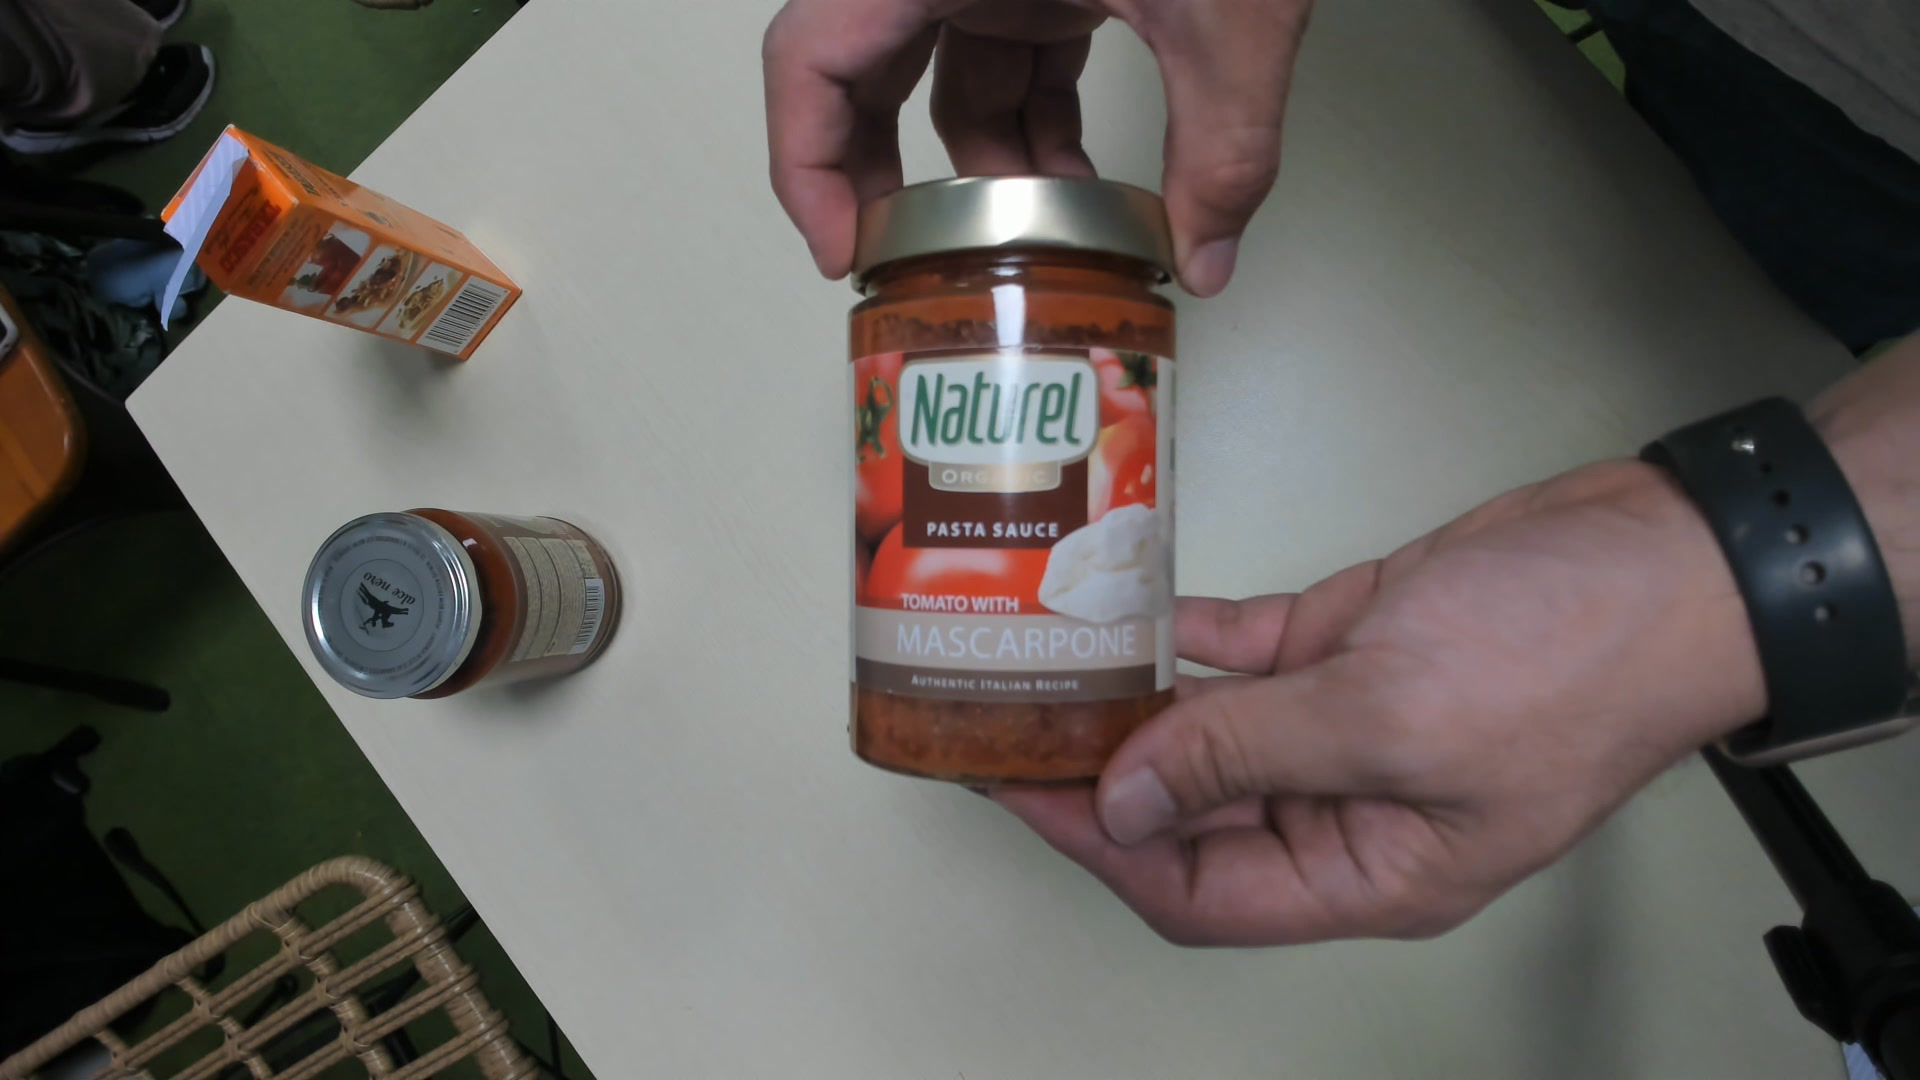PastaSauce_300-399g_NonHalal_NonHealthy: (844, 175, 1183, 787)
